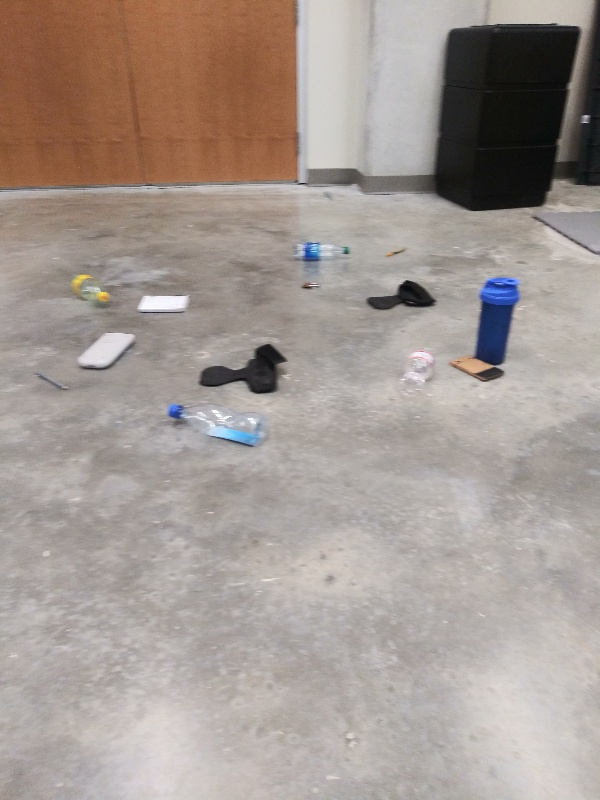bottle: (165, 401, 267, 446), (396, 341, 439, 402), (65, 269, 111, 308), (292, 239, 358, 266)
